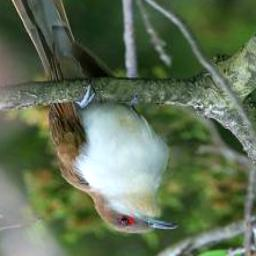Cuckoo: (0, 0, 181, 236)
